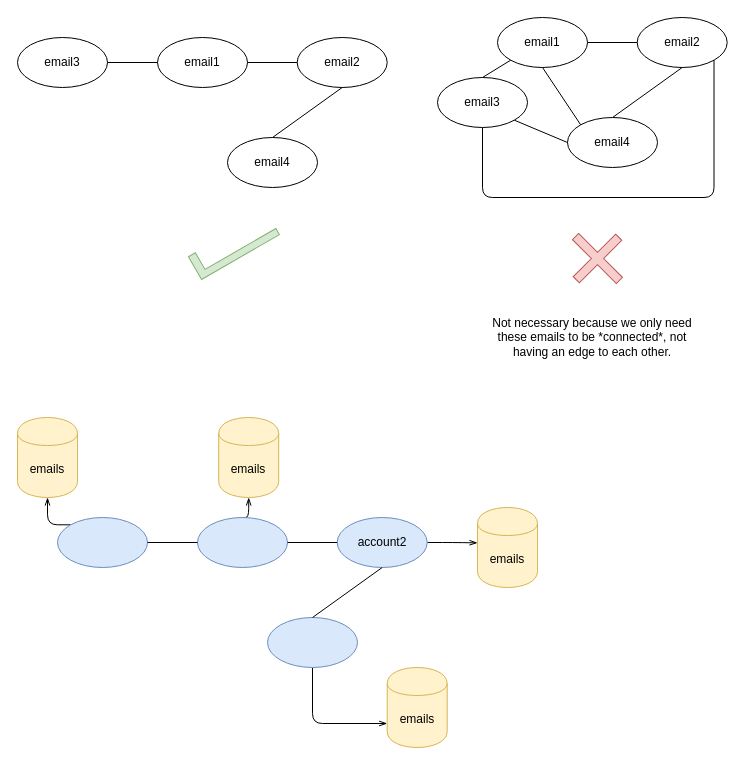
This 745x765 diagram has some shape labels left out. The shapes that lost their labels are listed below. From the top down, each one's centre as x and y in pixels, then its label:
At pixel 102 542: "account4".
At pixel 242 542: "account1".
At pixel 312 642: "account3".
